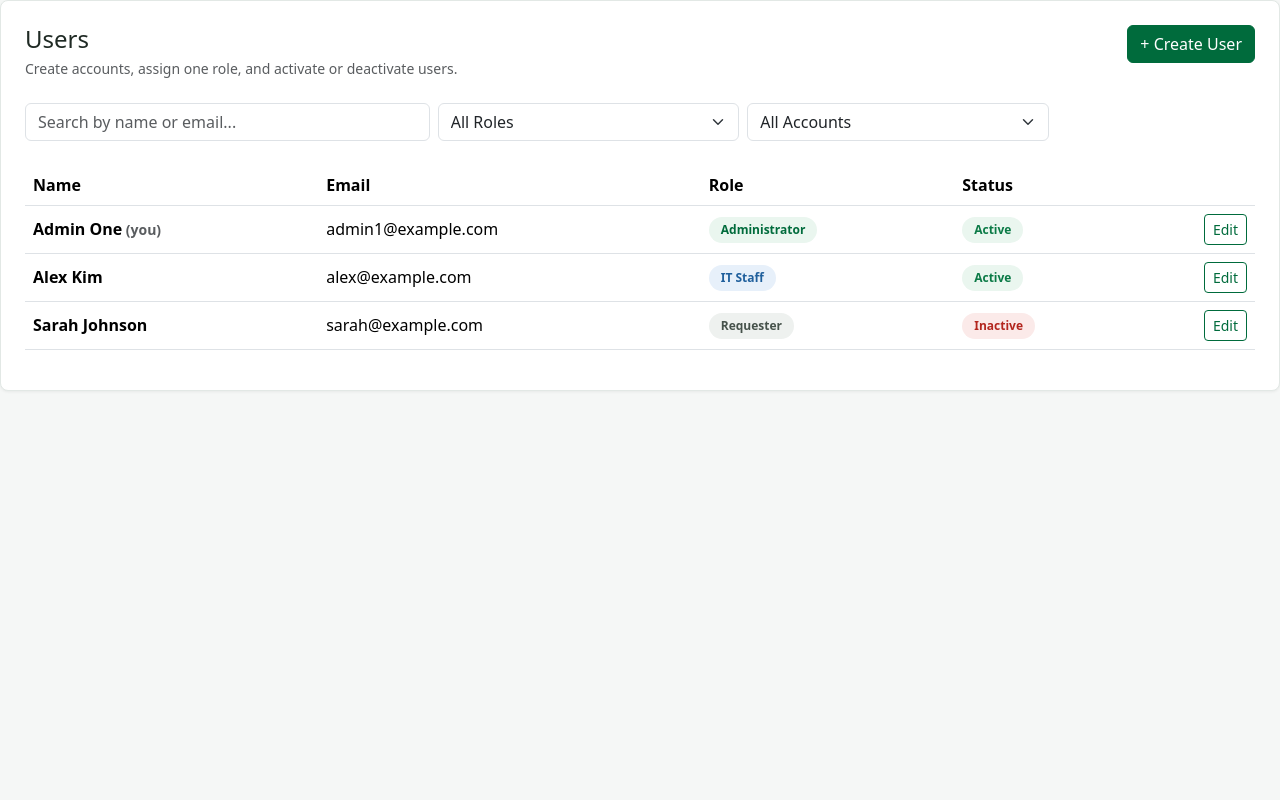
Test: UserManagement (UI-05) › leaves Role and Active editable on another user
Click the button with aria-label "Edit Alex Kim": (1225, 277) [1204,262,1247,293]
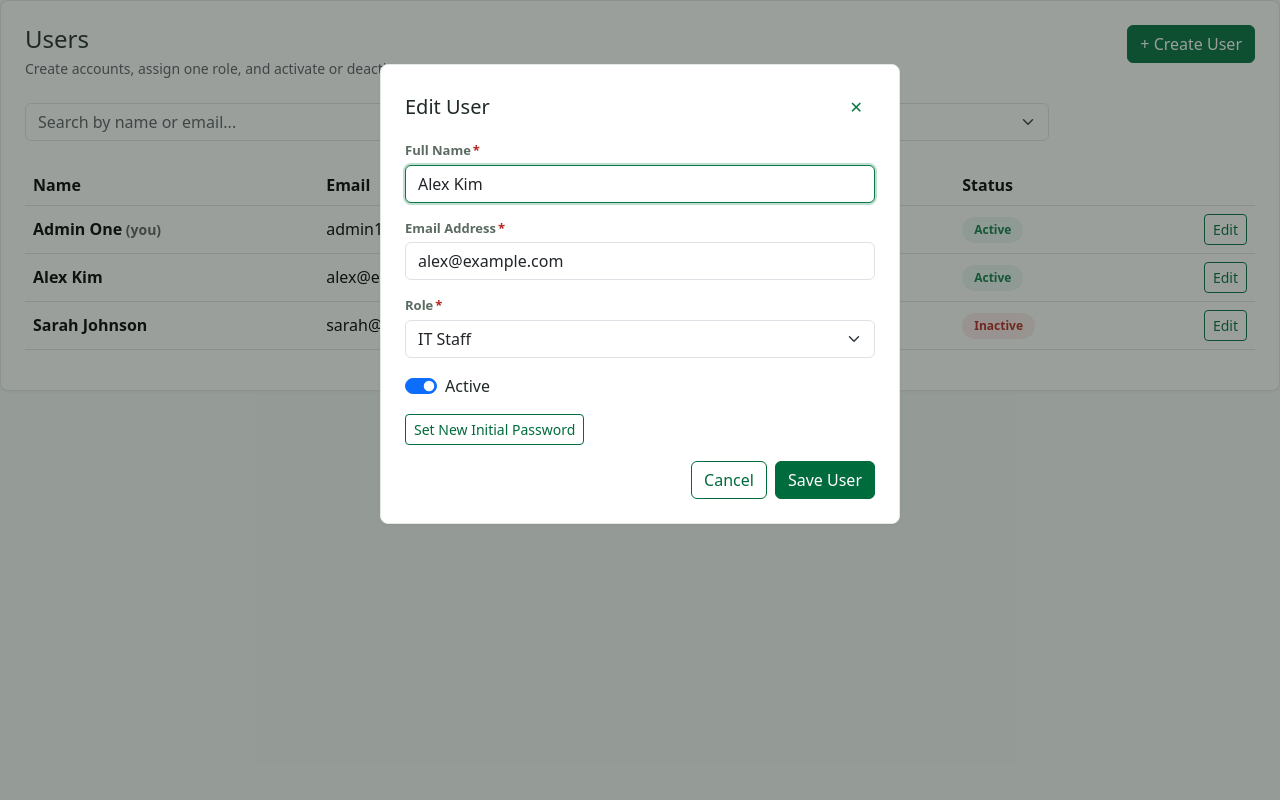
Now the dropdown labelled "Role*" is enabled, box [405,320,875,358]
Now the switch labelled "Active" is enabled, box [405,378,437,394]
